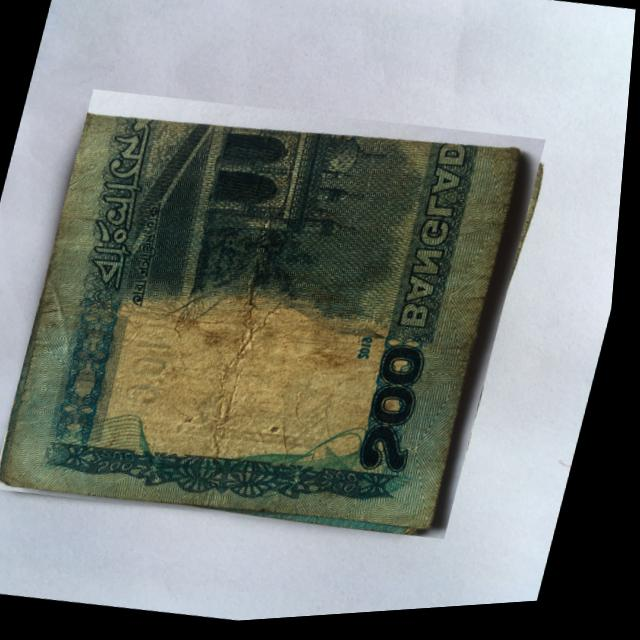Taka: (0, 66, 554, 570)
